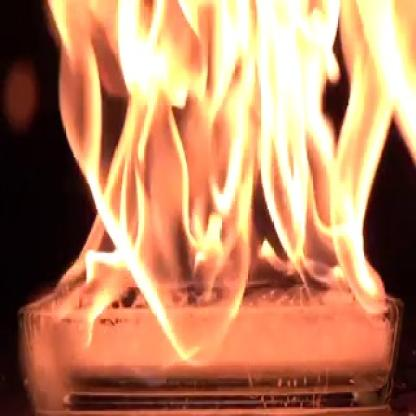fire: (43, 0, 402, 364)
